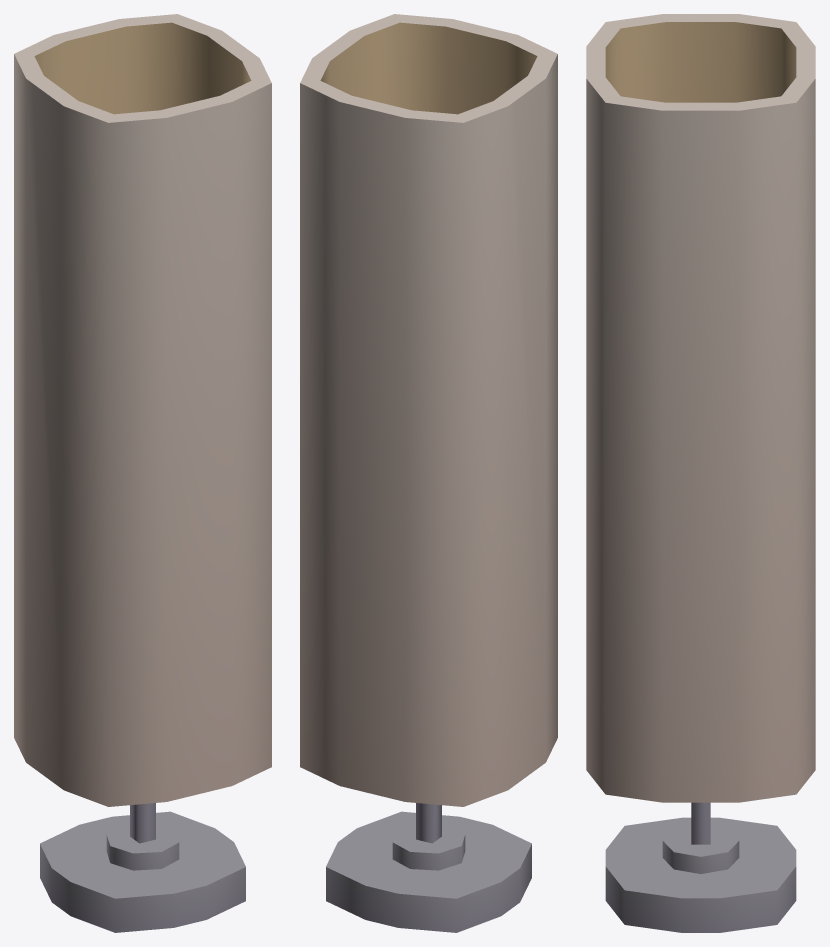
The model's file is lamp-long-standing.glb.
3 renders of one model, left to right at view 1: azimuth 30°, elevation 25°; view 2: azimuth 150°, elevation 25°; view 3: azimuth 270°, elevation 25°, orthographic.
Visible parts, largest first — view 1: lamp-long-standing; view 2: lamp-long-standing; view 3: lamp-long-standing.
Part boxes in pixels (box(x1,y1,x2,y2)): lamp-long-standing: box(14, 14, 271, 932); lamp-long-standing: box(300, 14, 557, 932); lamp-long-standing: box(586, 14, 815, 932).
Size of the model in its own units: 0.3 by 1.2 by 0.3.
